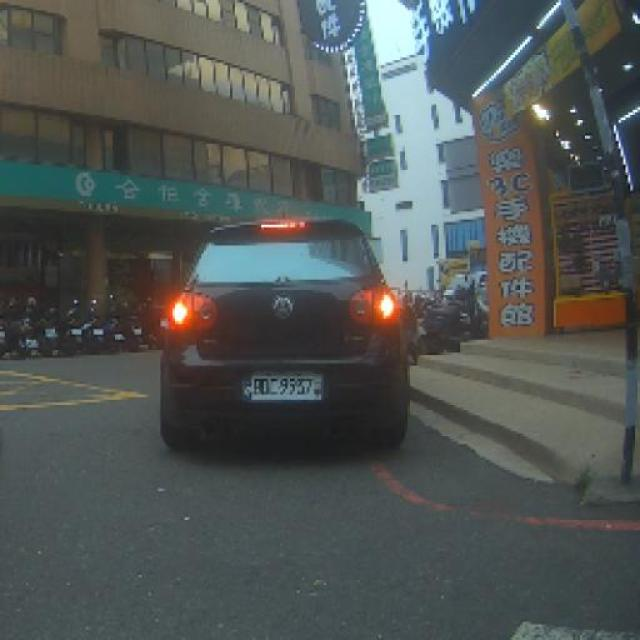illegalparking: (148, 198, 452, 486)
